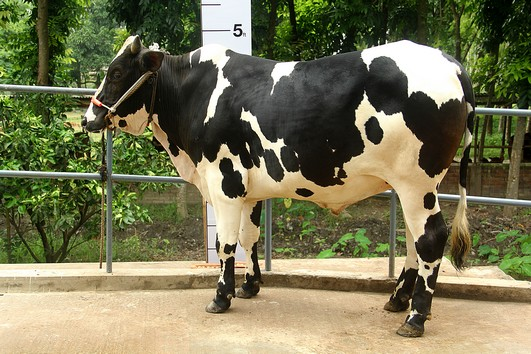cow: (81, 35, 474, 337)
